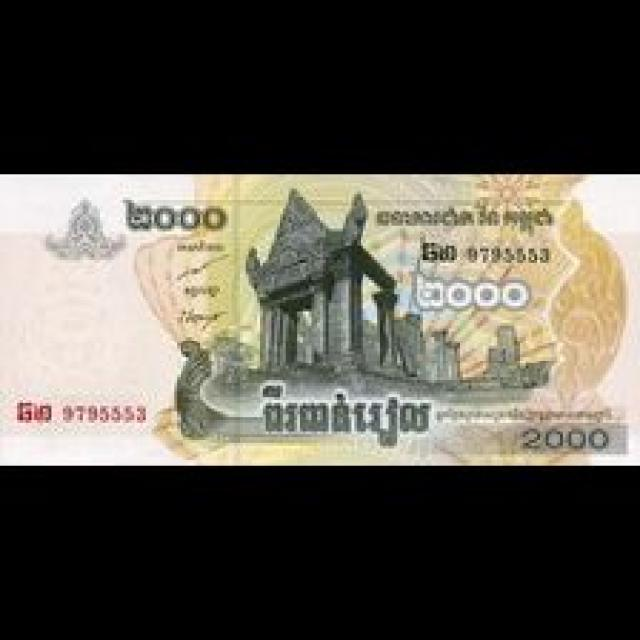banknote: (0, 174, 634, 467), (511, 420, 622, 461)
